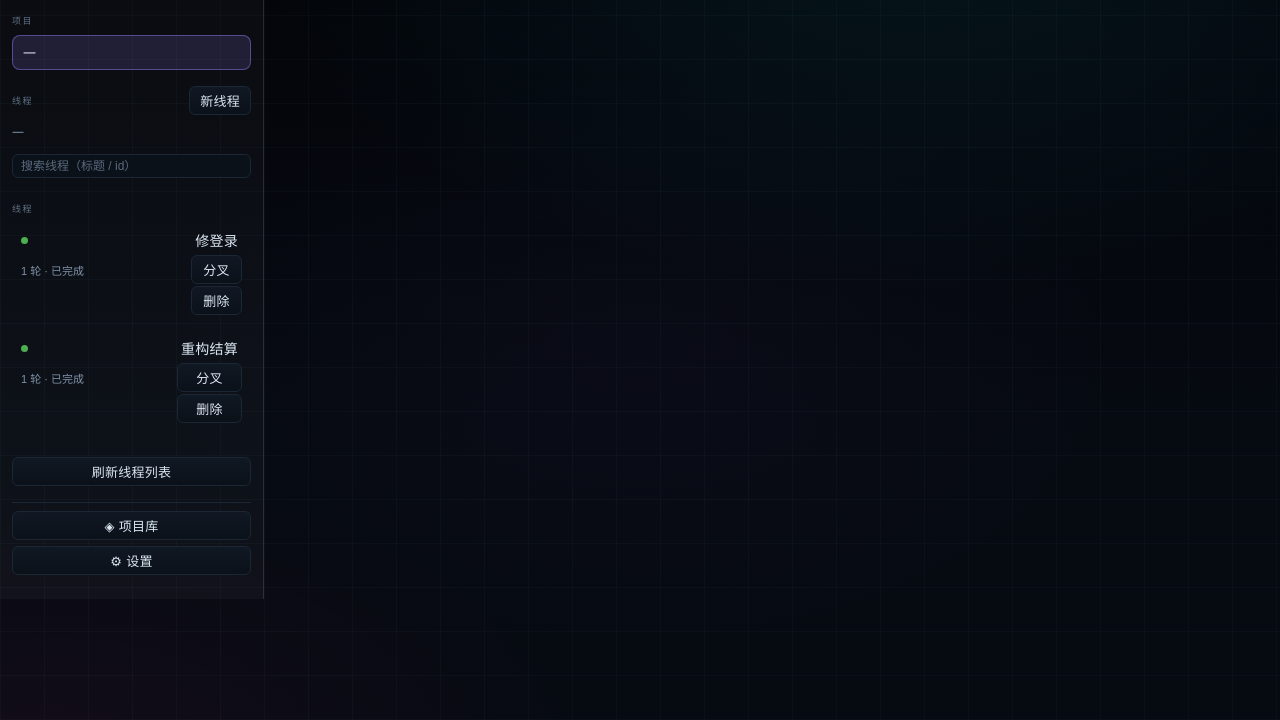
左栏（ThreadRail） › 线程搜索只按标题/id 过滤；无匹配时说清不搜正文
Type "结算" into the search field labelled "搜索线程" at (132, 166), box [12,154,251,178]
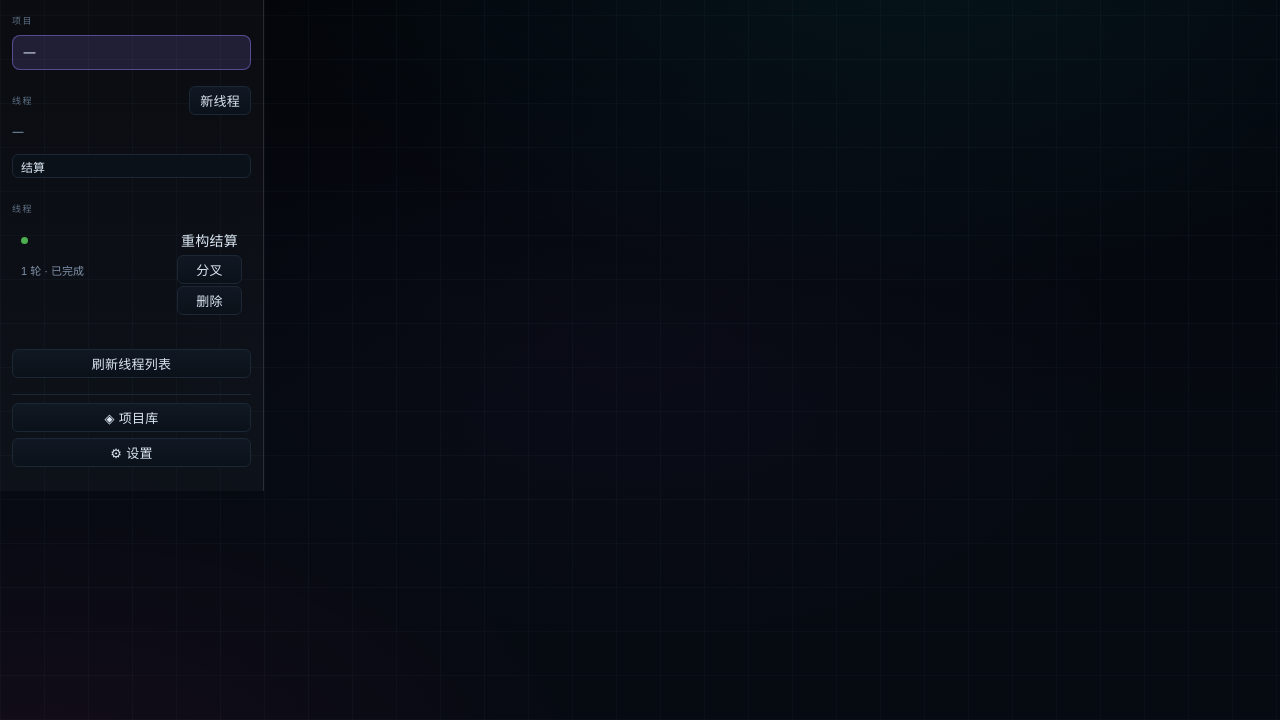
Expected: the button "重构结算" is shown, [177,227,242,253]
Expected: the button "修登录" is gone
Replace the text in the search field named "搜索线程" with "不存在" at (132, 166), box [12,154,251,178]
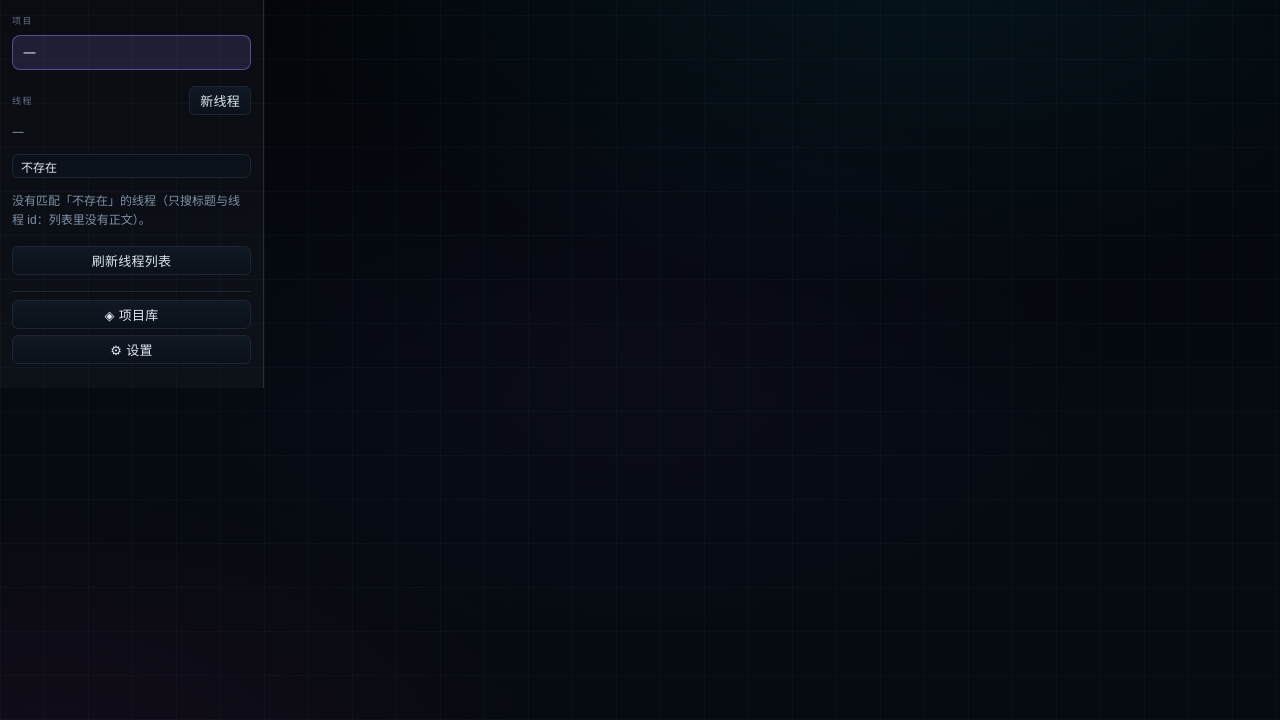
Expected: the text "没有匹配「不存在」的线程（只搜标题与线程 id：列表里没有正文）。" is shown, [12,192,251,230]
